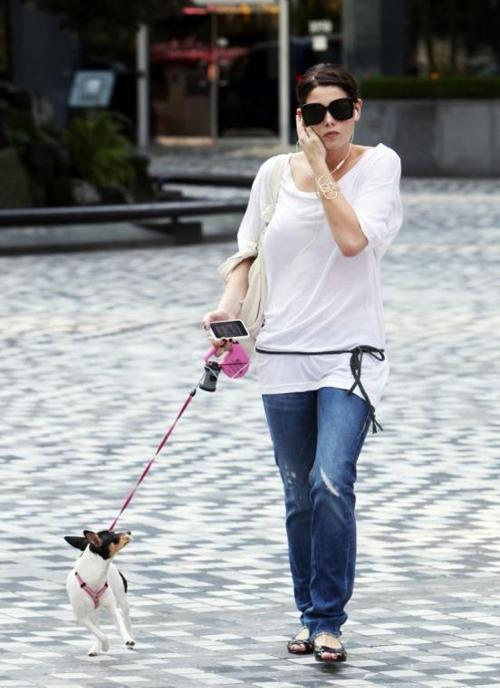person: (201, 66, 402, 659)
